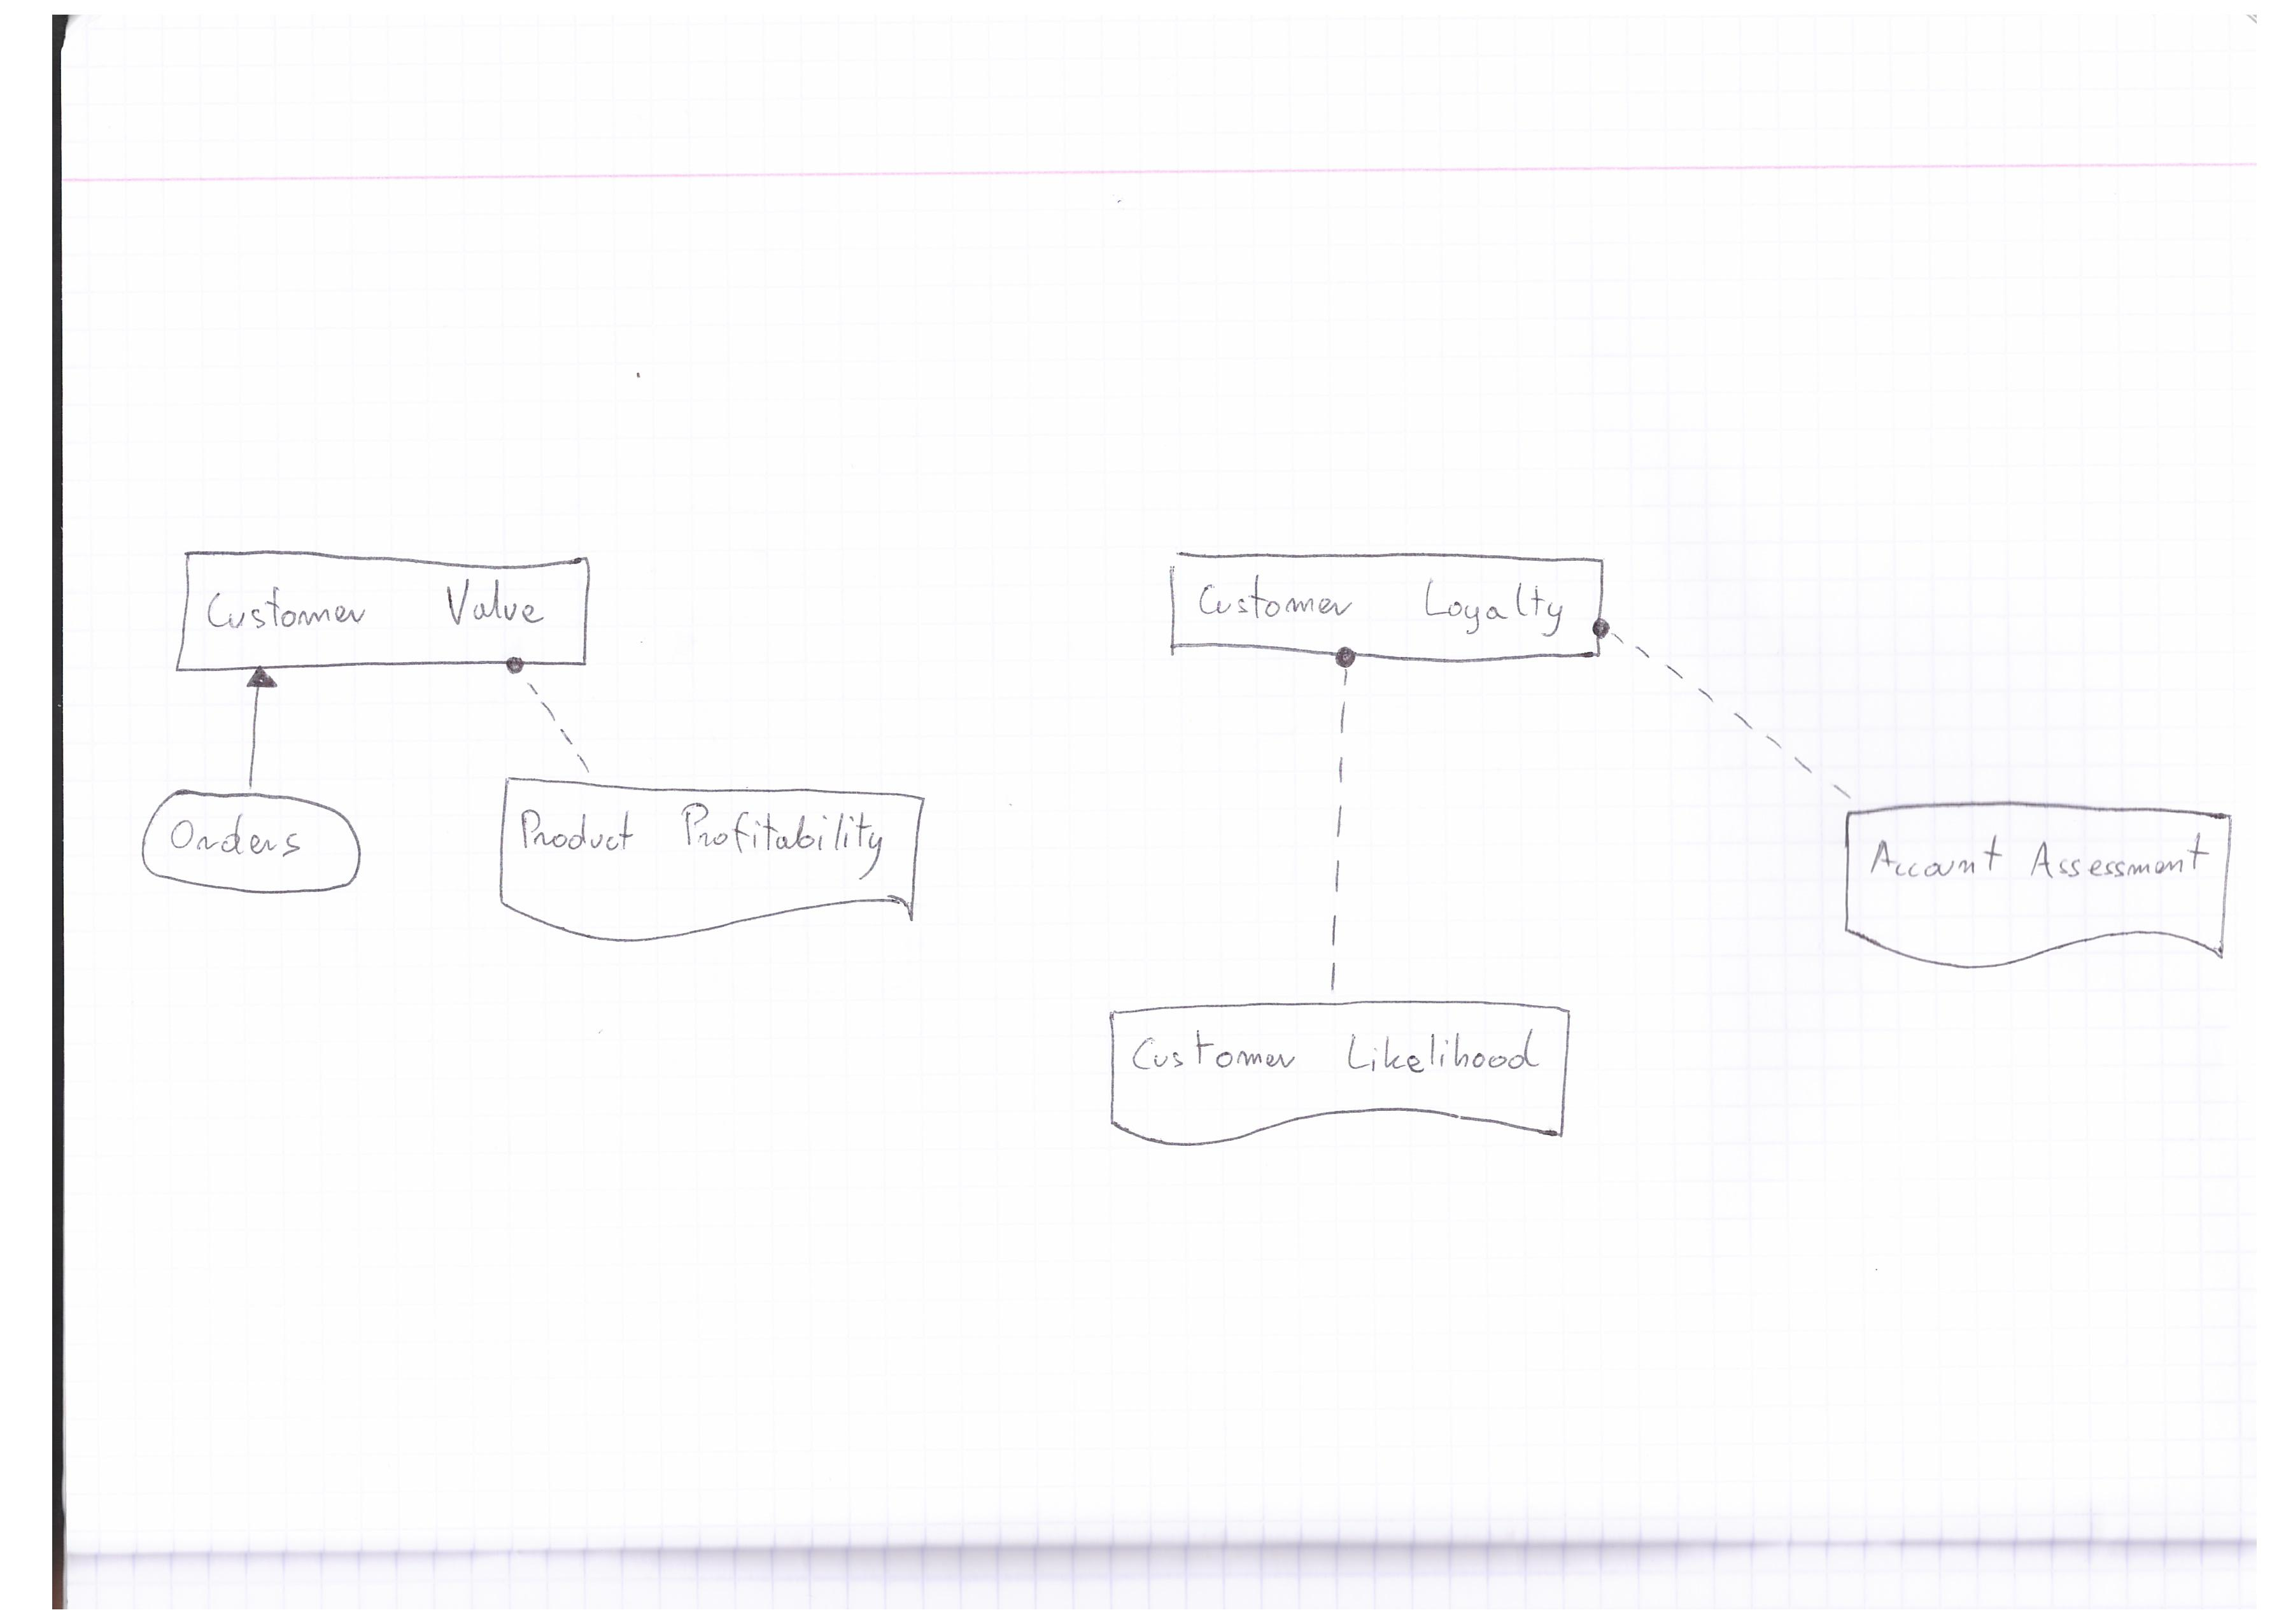arrow_authority_requirement: (1587, 606, 1861, 801), (1313, 638, 1360, 997), (483, 654, 594, 780)
arrow_information_requirement: (225, 661, 285, 794)
node_decision: (1149, 540, 1617, 675), (153, 534, 603, 675)
node_input_data: (128, 780, 380, 910)
node_knowledge_source: (487, 770, 937, 947), (1086, 997, 1592, 1151), (1826, 796, 2237, 977)
text: (515, 794, 900, 888), (1126, 1019, 1548, 1095), (1861, 823, 2216, 903), (1190, 569, 1574, 640), (200, 571, 552, 645), (165, 807, 313, 874)
